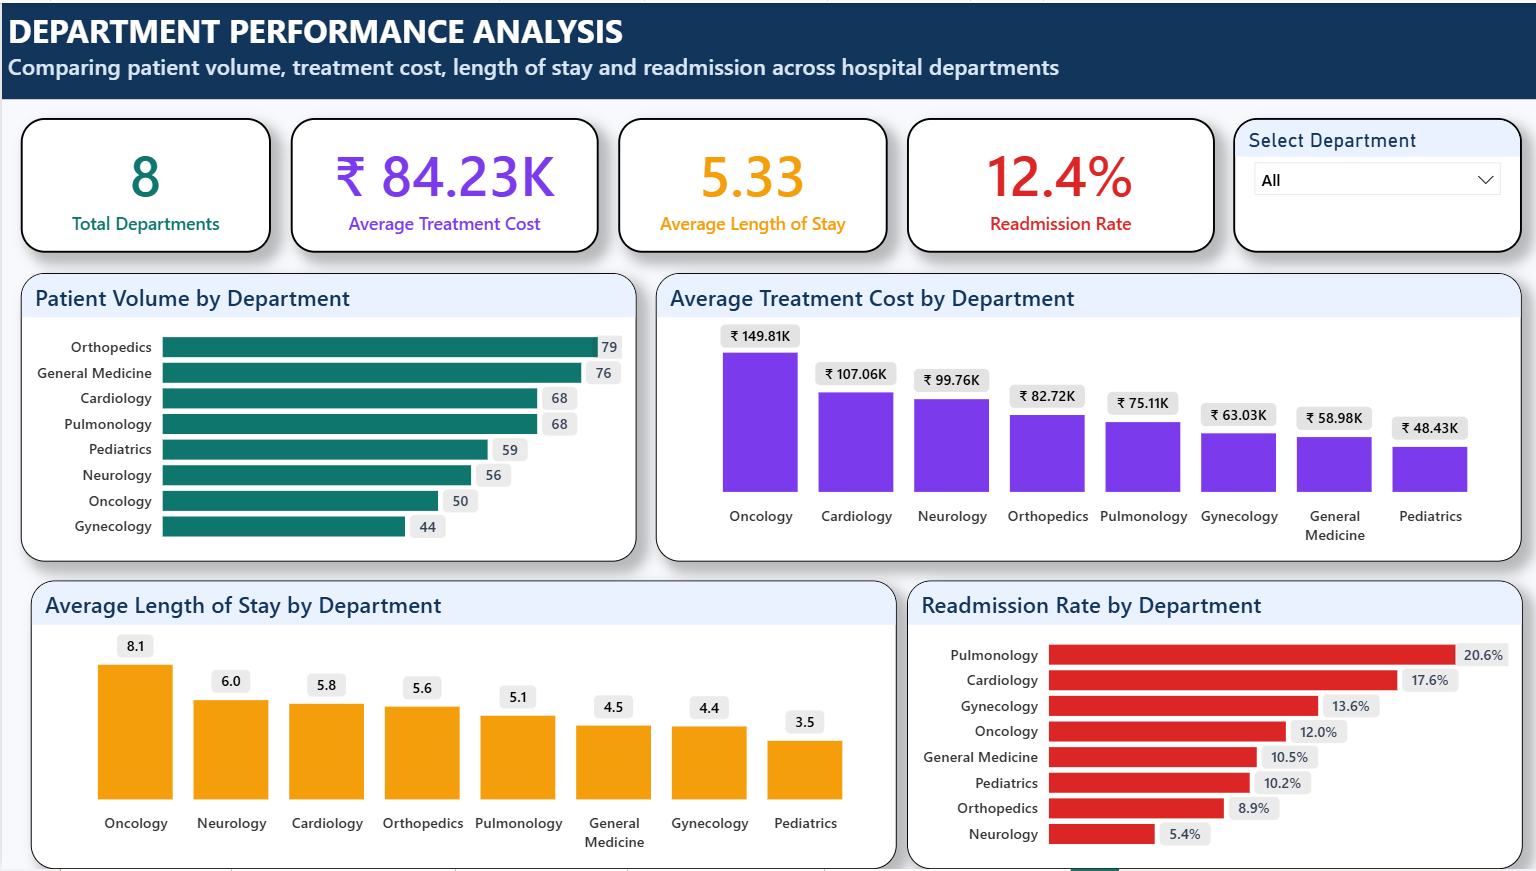

This screenshot's page, from the dashboard's own definition file:
{"tool":"powerbi","page":{"name":"Department Performance","canvas":[1280,720],"ordinal":1},"visuals":[{"type":"textbox","box":[0,0,1280,80],"z":0},{"type":"card","fields":{"Values":["Table1.Total Departments"]},"box":[16,96,208,112],"z":1000},{"type":"card","fields":{"Values":["Table1.Average Treatment Cost"]},"box":[240,96,256,112],"z":2000},{"type":"card","fields":{"Values":["Table1.Average Length of Stay"]},"box":[512,96,224,112],"z":3000},{"type":"card","fields":{"Values":["Table1.Readmission Rate"]},"box":[752,96,256,112],"z":4000},{"type":"clusteredBarChart","title":"Patient Volume by Department","fields":{"Category":["Table1.Department"],"Y":["Table1.Total Patients"]},"box":[16,224,512,240],"z":5000},{"type":"clusteredColumnChart","fields":{"Category":["Table1.Department"],"Y":["Table1.Average Treatment Cost"]},"box":[544,224,720,240],"z":6000},{"type":"clusteredColumnChart","fields":{"Category":["Table1.Department"],"Y":["Table1.Average Length of Stay"]},"box":[24,480,720,240],"z":7000},{"type":"clusteredBarChart","fields":{"Category":["Table1.Department"],"Y":["Table1.Readmission Rate"]},"box":[752,480,512,240],"z":8000},{"type":"slicer","title":"Select Department","fields":{"Values":["Table1.Department"]},"box":[1024,96,240,112],"z":9000}]}

Visuals, with their boxes in screenshot pixels (x1, y1, x2, y2), scaled from the page's 1280x720 canvas onto the 1536x871 screenshot:
textbox: region(0, 0, 1535, 97)
card - Table1.Total Departments: region(19, 116, 269, 252)
card - Table1.Average Treatment Cost: region(288, 116, 595, 252)
card - Table1.Average Length of Stay: region(614, 116, 883, 252)
card - Table1.Readmission Rate: region(902, 116, 1210, 252)
"Patient Volume by Department" clusteredBarChart: region(19, 271, 634, 561)
clusteredColumnChart - Table1.Department x Table1.Average Treatment Cost: region(653, 271, 1517, 561)
clusteredColumnChart - Table1.Department x Table1.Average Length of Stay: region(29, 581, 893, 870)
clusteredBarChart - Table1.Department x Table1.Readmission Rate: region(902, 581, 1517, 870)
"Select Department" slicer: region(1229, 116, 1517, 252)
